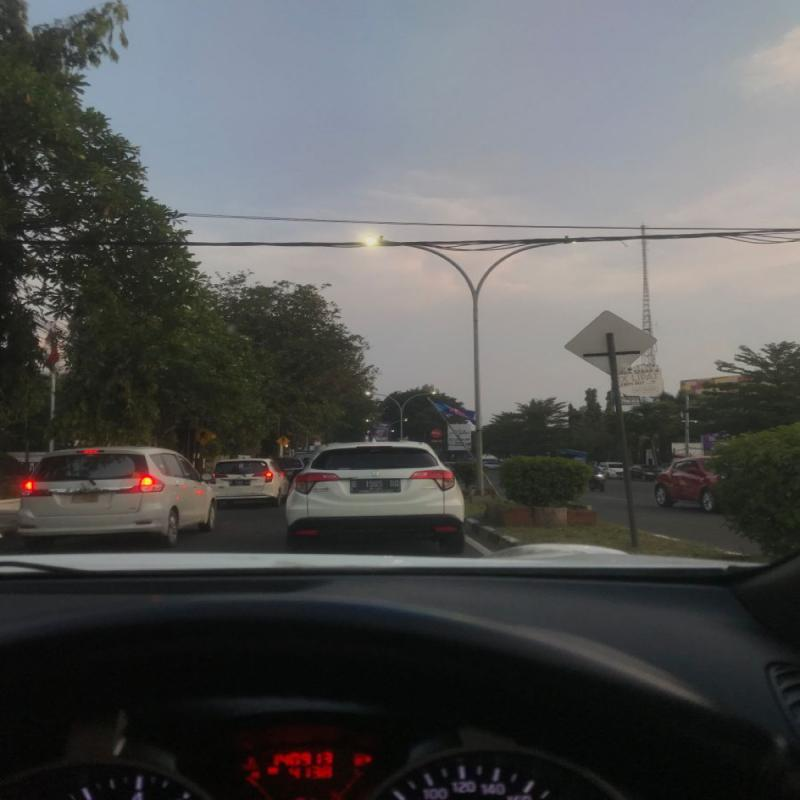license plate on a car: (346, 470, 412, 500), (71, 487, 118, 508), (229, 478, 253, 486)
